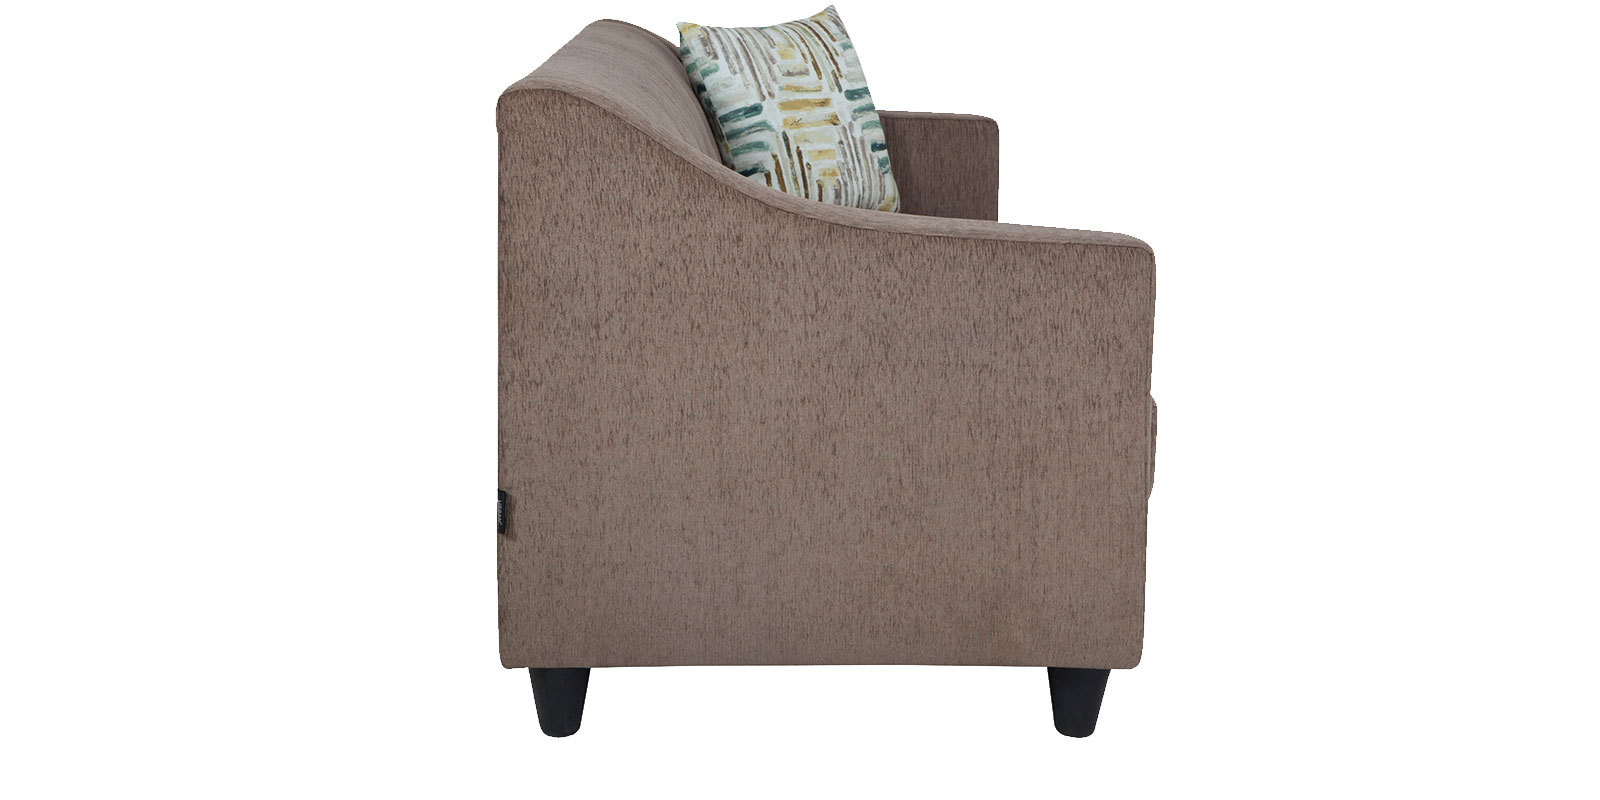Derby Three Seater Sofa in Grey Colour by Urban Living: (467, 11, 1165, 767)
